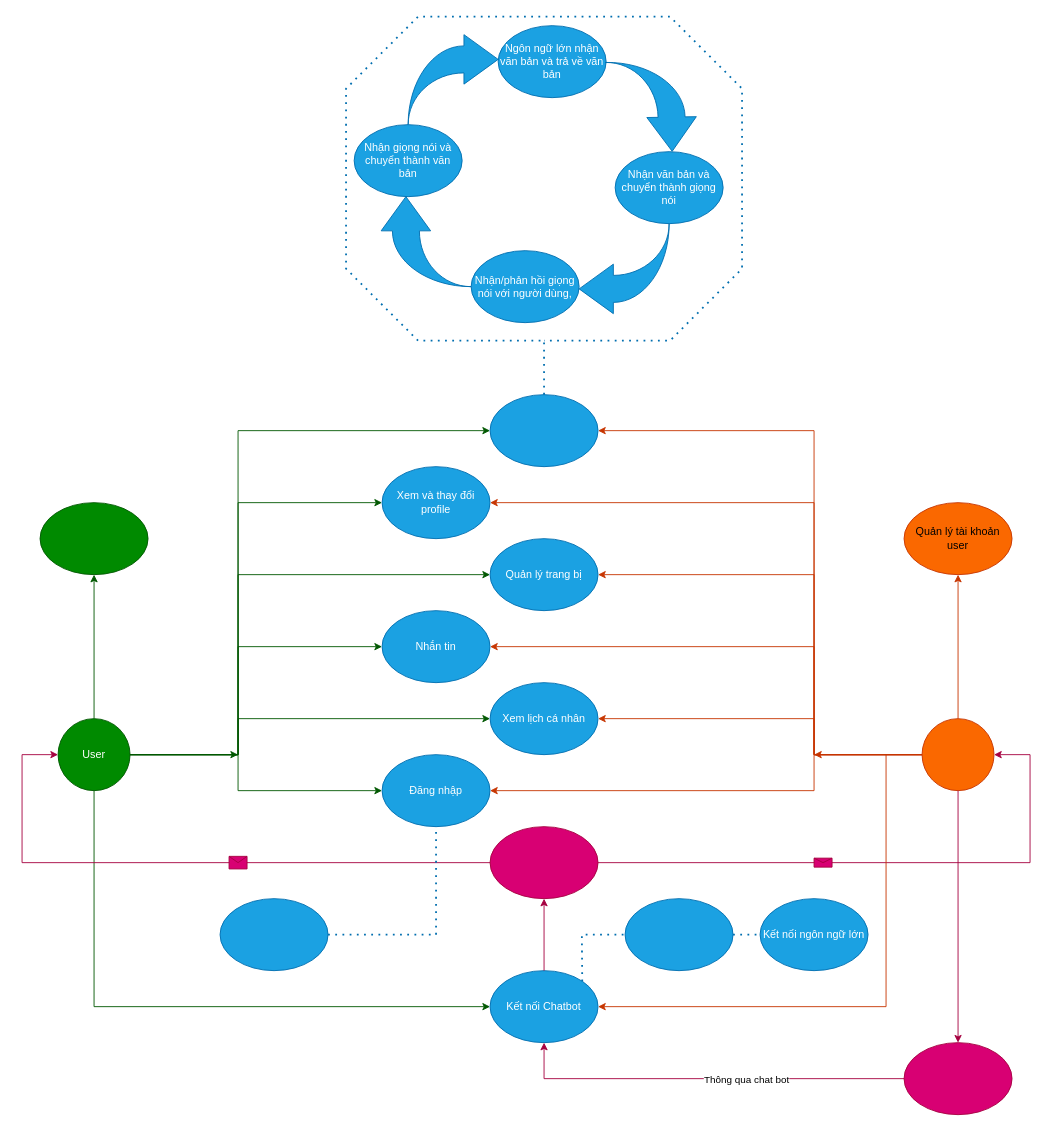
This 1053x1130 diagram has some shape labels left out. The shapes that lost their labels are listed below. From the top down, each one's box as (x1, y1, x2, y2) in pixels, then its label:
(489, 394, 598, 467): Gọi streaming với bot
(39, 502, 148, 575): Đăng ký
(921, 718, 994, 791): Admin
(489, 826, 598, 899): Gửi tin nhắn đến các bên liên quan về lịch họp
(219, 898, 328, 971): Đăng xuất
(624, 898, 733, 971): Lịch sử đoạn chat
(903, 1042, 1012, 1115): Lên lịch họp tự động
